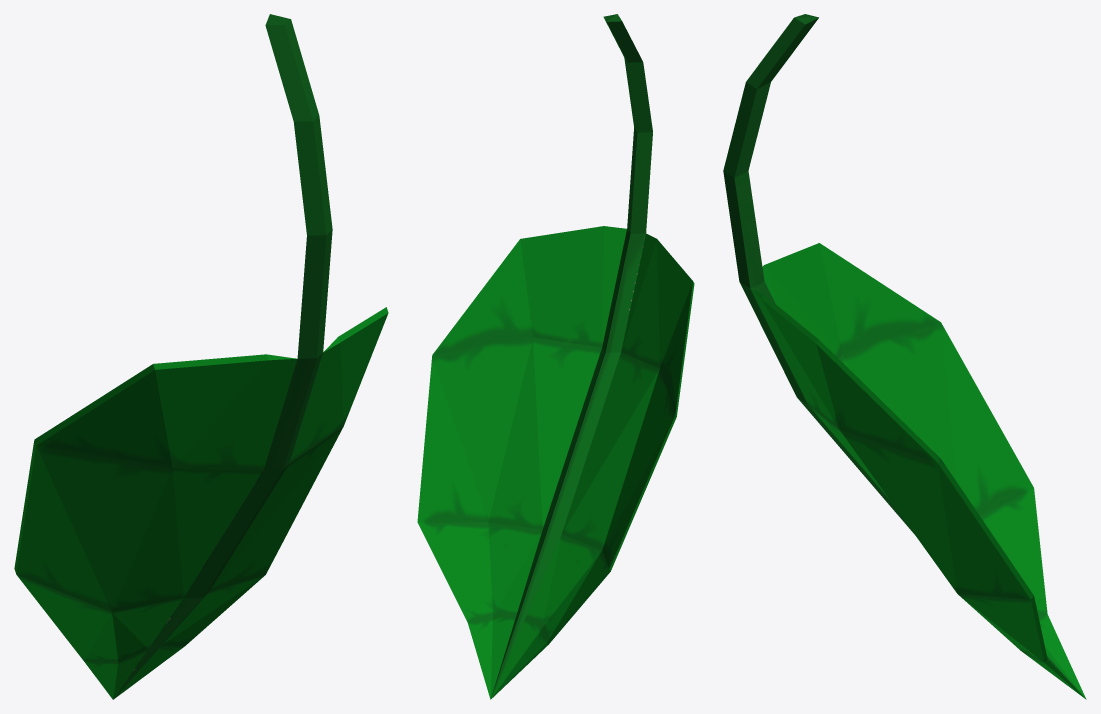
Rendered from Food1V3.dae.
3 views of the same model, side by side, from view 1: azimuth 30°, elevation 25°; view 2: azimuth 150°, elevation 25°; view 3: azimuth 270°, elevation 25° (orthographic). The views are drawn at different scales.
Parts seen in each view (by area): view 1: Cube_001; view 2: Cube_001; view 3: Cube_001.
Part boxes in pixels (x1,y1,x2,y2): Cube_001: (14, 14, 388, 699); Cube_001: (417, 14, 694, 699); Cube_001: (723, 14, 1086, 699).
Size of the model in its own units: 0.7677 by 0.8633 by 1.79.
Materials: 1 (1 with a texture image).
